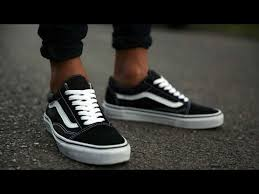Vans Old Skool Black: (101, 69, 227, 135), (42, 76, 132, 168)
